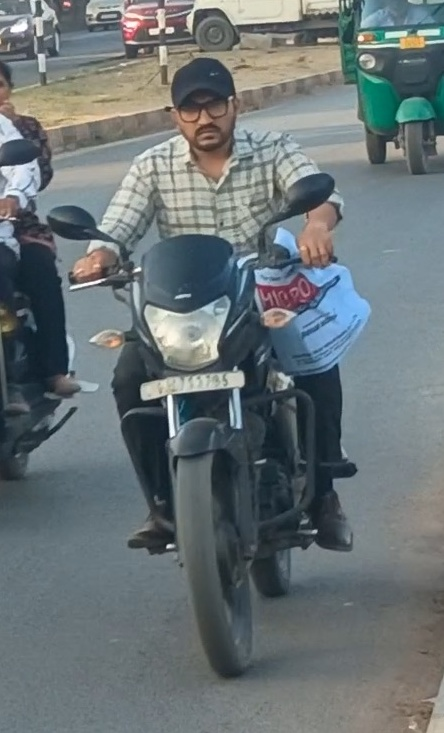BikeWithRider: (38, 51, 380, 685)
NoHelmet: (158, 51, 249, 157)
